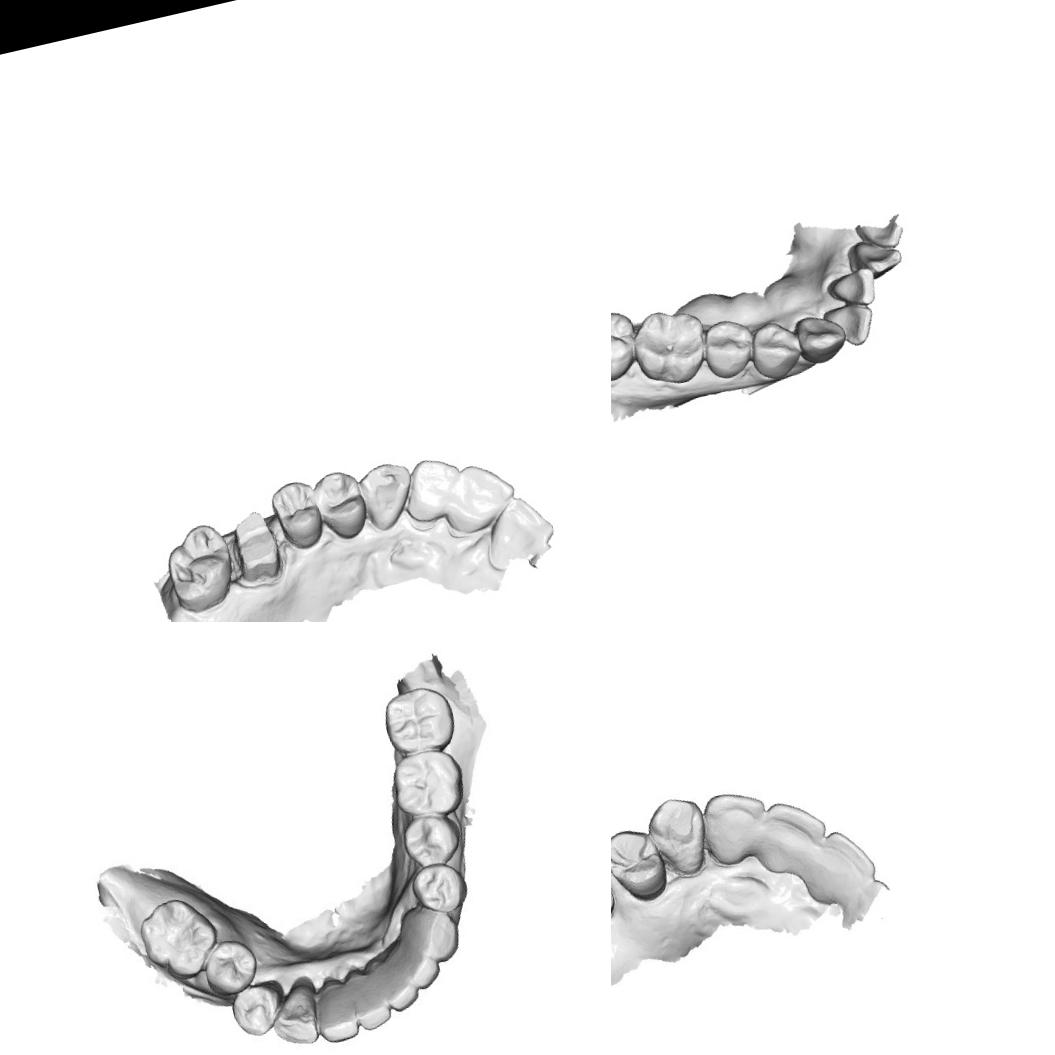canine: (646, 794, 712, 883), (355, 457, 422, 534), (400, 898, 467, 969), (790, 307, 851, 368), (273, 980, 324, 1044)
crown: (222, 505, 290, 592)
incisor: (434, 456, 524, 541), (476, 490, 562, 576), (394, 452, 471, 534), (754, 794, 831, 868), (700, 784, 768, 860), (813, 826, 878, 894), (307, 974, 365, 1048), (344, 961, 397, 1037), (373, 954, 427, 1018), (820, 298, 880, 352), (844, 234, 902, 286), (391, 941, 442, 996), (824, 264, 880, 314)
molar: (130, 888, 224, 986), (158, 518, 242, 618), (626, 300, 714, 392), (378, 680, 459, 761), (386, 745, 466, 822), (611, 298, 646, 392)
premolar: (310, 465, 374, 545), (266, 476, 328, 554), (611, 825, 670, 905), (396, 810, 465, 875), (697, 314, 761, 384), (196, 936, 264, 1001), (745, 316, 808, 383), (406, 857, 468, 917), (227, 980, 287, 1038)
